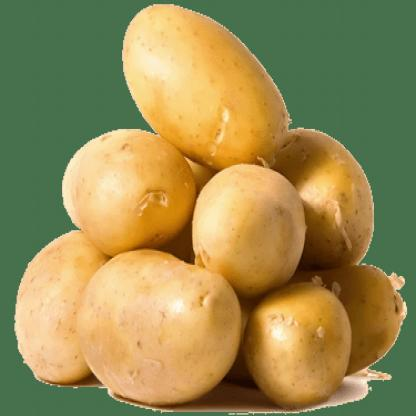--: (114, 0, 289, 169), (74, 250, 248, 407), (58, 130, 200, 255), (181, 166, 312, 293)
